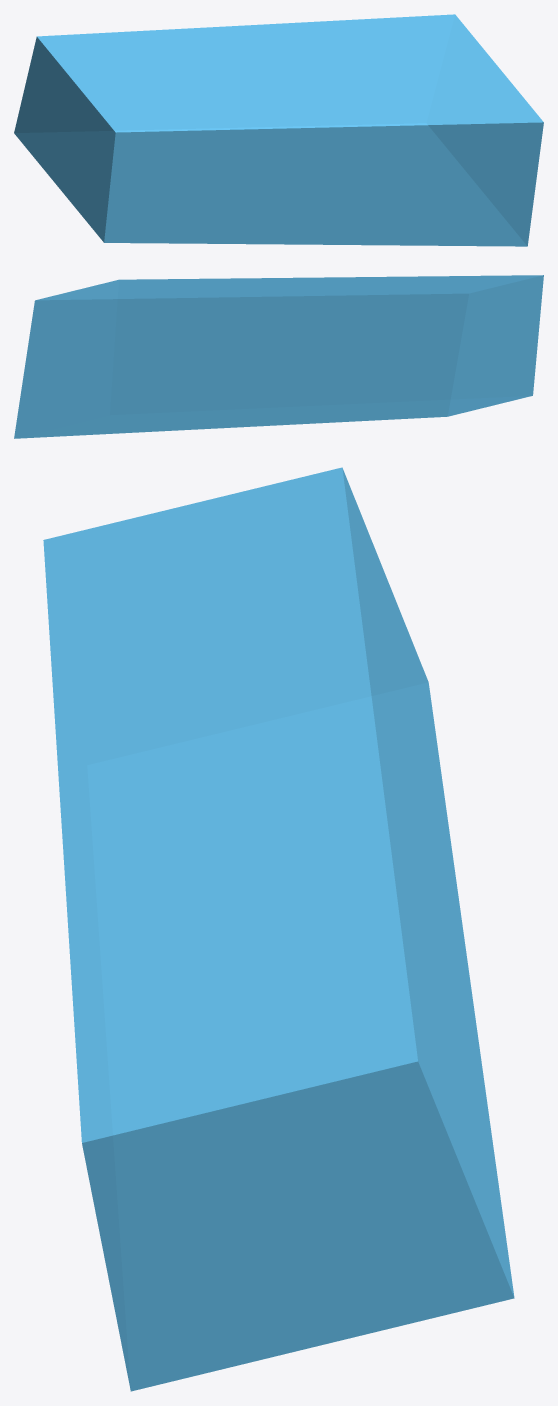
File: Event_421556567_HErechit_31.fbx
The picture shows the model from 3 angles, top to bottom: view 1: azimuth 30°, elevation 25°; view 2: azimuth 150°, elevation 25°; view 3: azimuth 270°, elevation 25°; orthographic projection. The views are drawn at different scales.
Parts seen in each view (by area): view 1: Model; view 2: Model; view 3: Model.
Part boxes in pixels (x1,y1,x2,y2): Model: [14, 14, 543, 246]; Model: [14, 275, 543, 438]; Model: [43, 467, 514, 1391].
Bounding box in the file's own units: 1.27 × 0.7617 × 0.6232.
